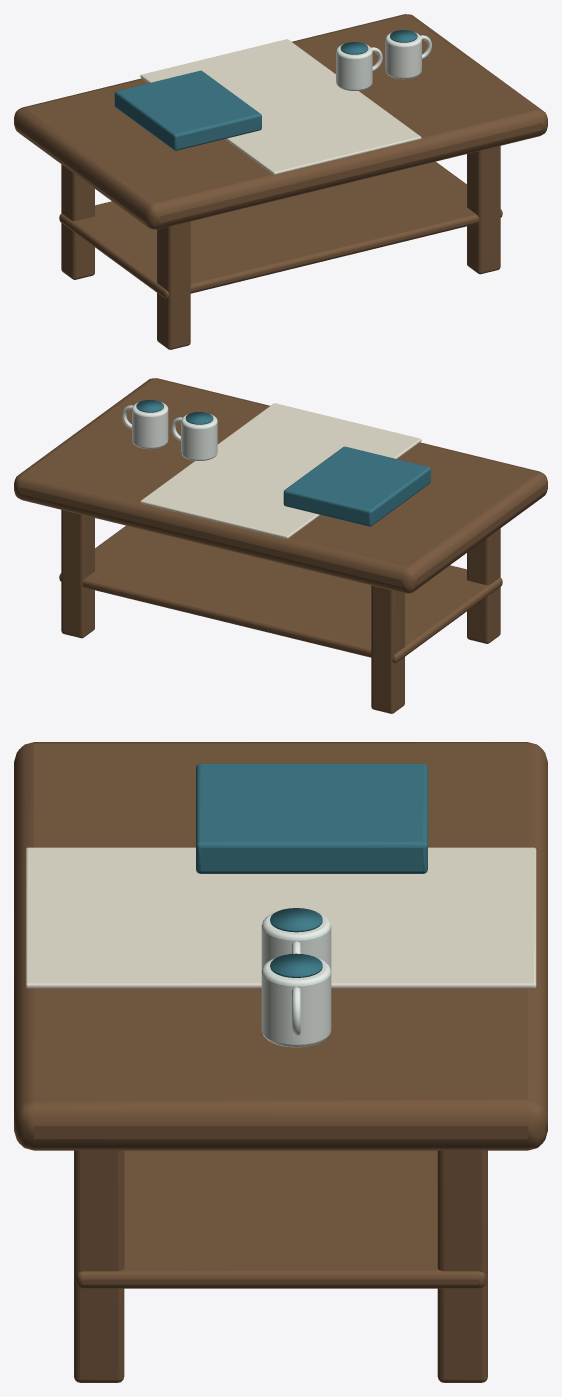
File: coffee_table.glb
3 views of the same model, one above another, from view 1: azimuth 30°, elevation 25°; view 2: azimuth 150°, elevation 25°; view 3: azimuth 270°, elevation 25° (orthographic). The views are drawn at different scales.
Parts seen in each view (by area): view 1: coffee_table_render_mesh; view 2: coffee_table_render_mesh; view 3: coffee_table_render_mesh.
Boxes of the visible parts, left/top/right/bottom form: coffee_table_render_mesh: left=14, top=14, right=547, bottom=349; coffee_table_render_mesh: left=14, top=378, right=547, bottom=713; coffee_table_render_mesh: left=14, top=742, right=547, bottom=1382.
Size of the model in its own units: 1.14 by 0.5465 by 0.69.
